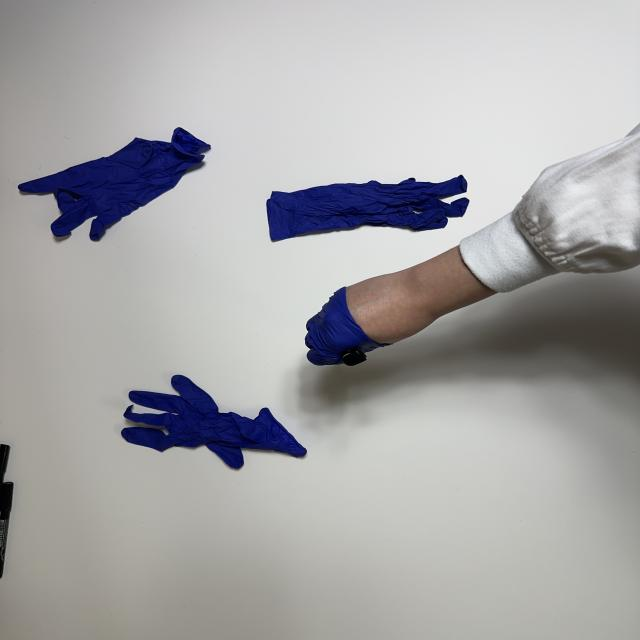glove_not_fitted: (303, 271, 438, 368)
